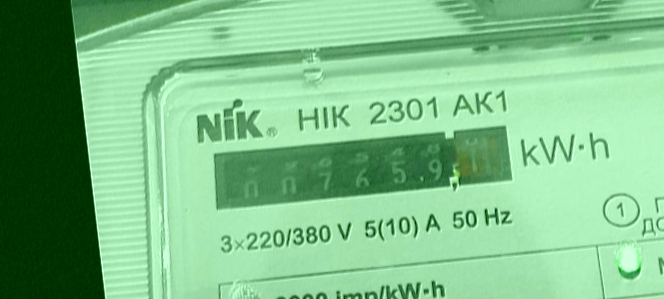0: (279, 171, 301, 198), (241, 174, 262, 202)
1: (466, 142, 484, 176)
5: (387, 156, 412, 185)
6: (352, 163, 374, 189)
7: (315, 167, 338, 194)
9: (425, 154, 446, 183)
screen: (200, 105, 526, 231)
